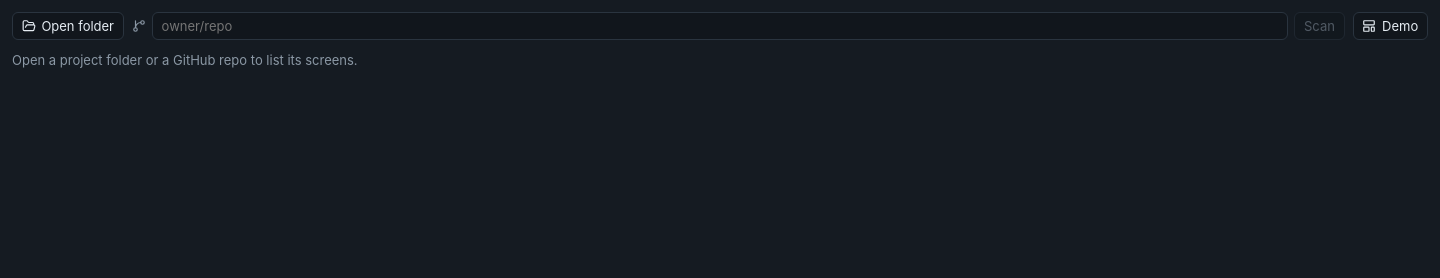
Test: selecting real snapshot thumbnails opens the matching screen and route
Later steps or results of the test are not shown.
Click the button "Demo" at (1390, 26), box [1353, 12, 1428, 40]
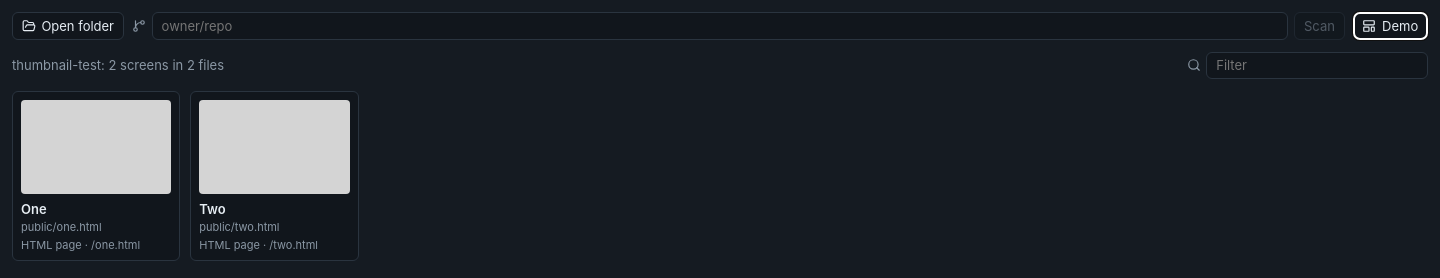
Now the button with aria-label "Open One" is shown, box [12, 91, 180, 261]
